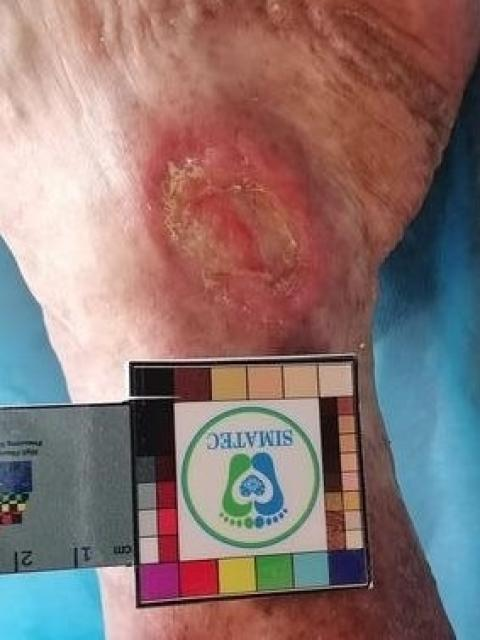wound: (160, 156, 310, 319)
